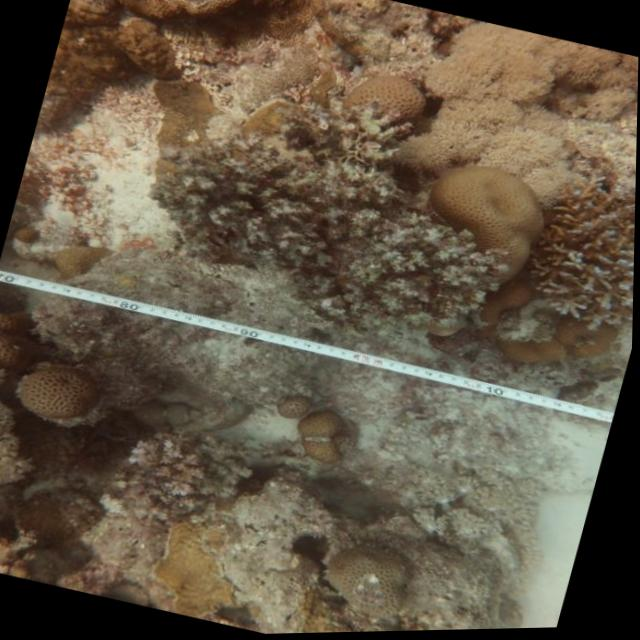Healthy Coral: (299, 0, 640, 322), (0, 296, 130, 476)
